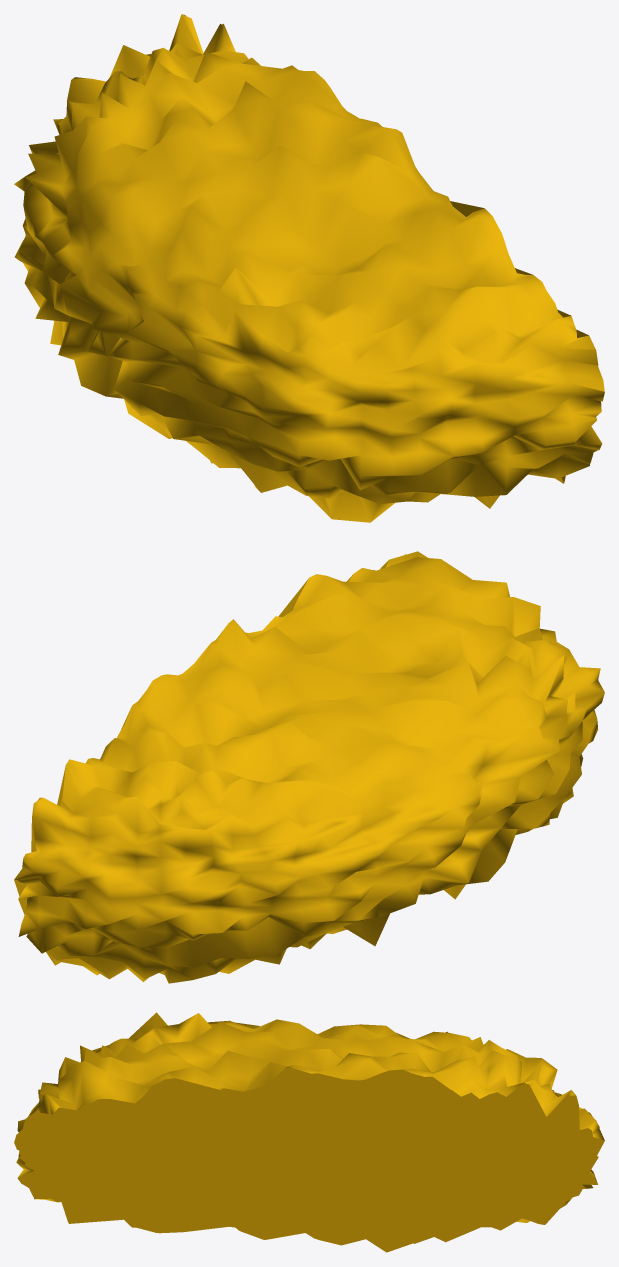
The model's file is 切ったチキン1.fbx.
3 views of the same model, one above another, from view 1: azimuth 30°, elevation 25°; view 2: azimuth 150°, elevation 25°; view 3: azimuth 270°, elevation 25° (orthographic). The views are drawn at different scales.
Visible parts, largest first — view 1: オブジェクト; view 2: オブジェクト; view 3: オブジェクト.
Part boxes in pixels (box(x1,y1,x2,y2)): オブジェクト: box(14, 14, 604, 522); オブジェクト: box(14, 551, 604, 983); オブジェクト: box(14, 1012, 604, 1252).
Bounding box in the file's own units: 0.6484 × 0.5449 × 1.57.
